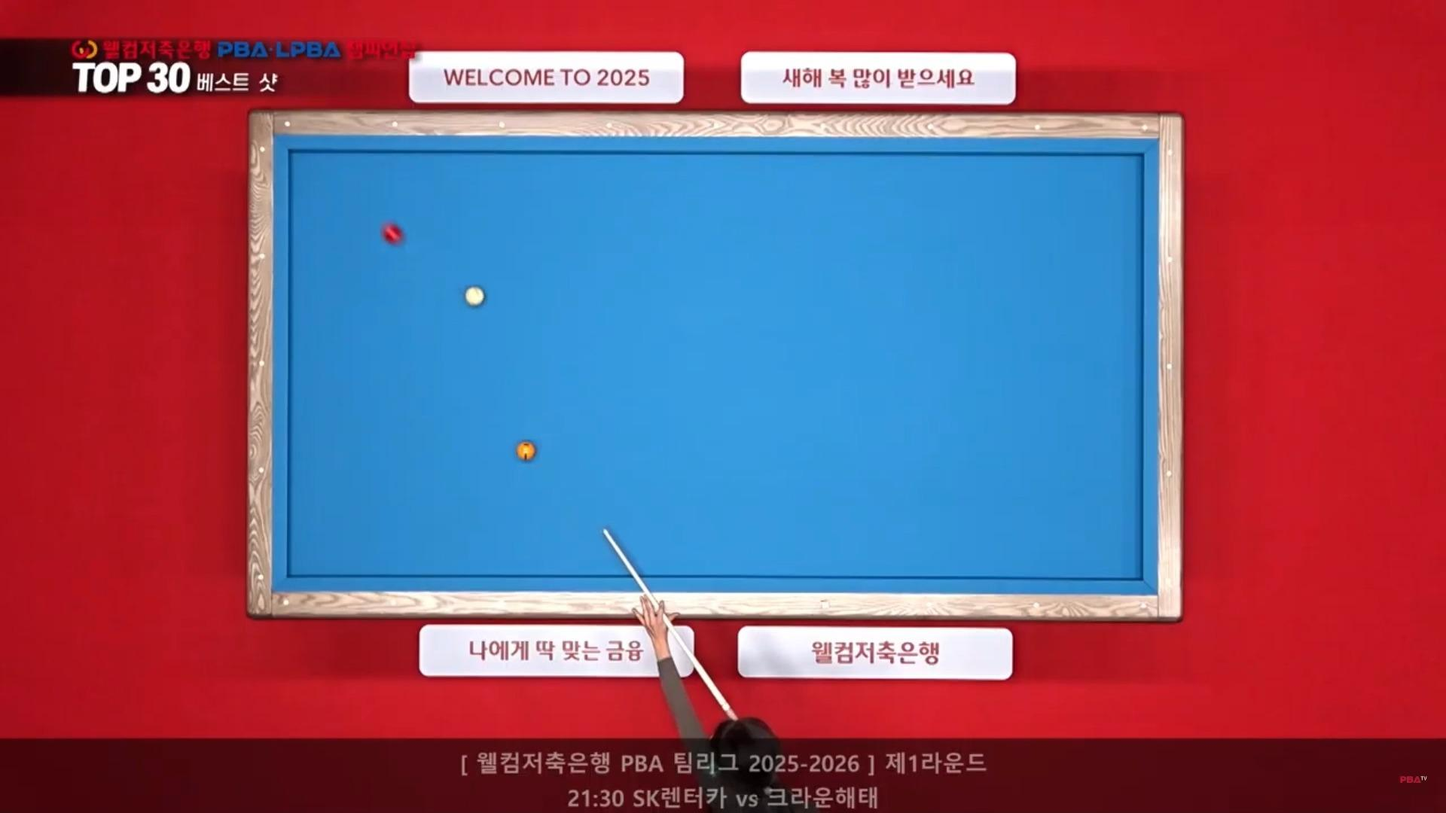Red: (381, 225, 406, 245)
White: (463, 287, 488, 308)
billiard-ball-Yellow: (515, 439, 536, 465)
